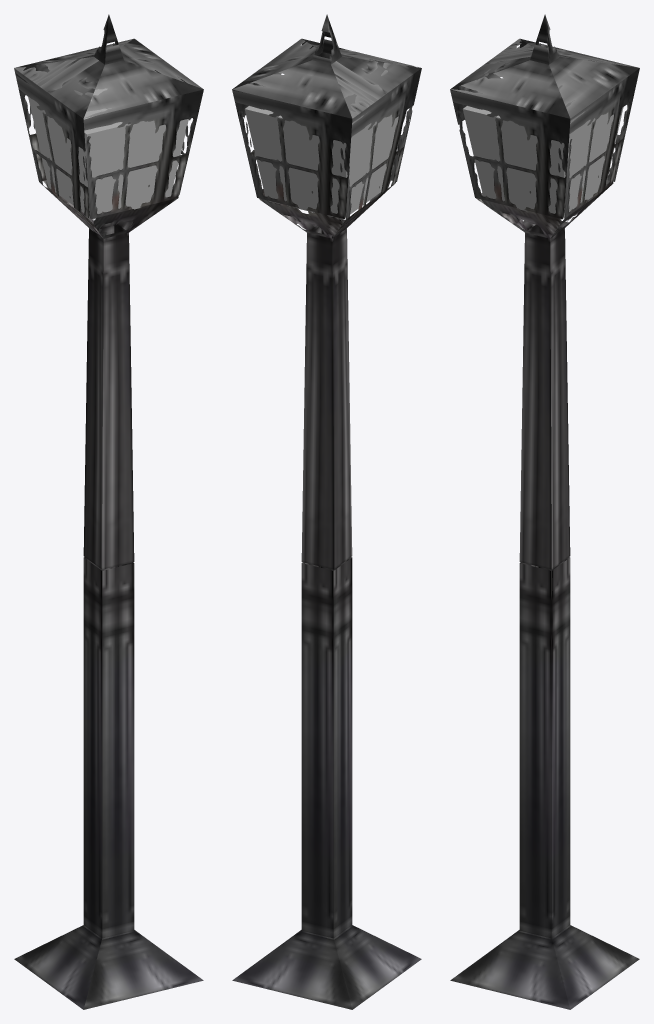
Rendered from StreetLamp.fbx.
3 views of the same model, side by side, from view 1: azimuth 30°, elevation 25°; view 2: azimuth 150°, elevation 25°; view 3: azimuth 330°, elevation 25° (orthographic).
Visible parts, largest first — view 1: StreetLamp; view 2: StreetLamp; view 3: StreetLamp.
Part boxes in pixels (<box>): StreetLamp: <box>14,14,203,1009</box>; StreetLamp: <box>232,14,421,1009</box>; StreetLamp: <box>450,14,639,1009</box>.
Size of the model in its own units: 18.75 by 142 by 18.75.
